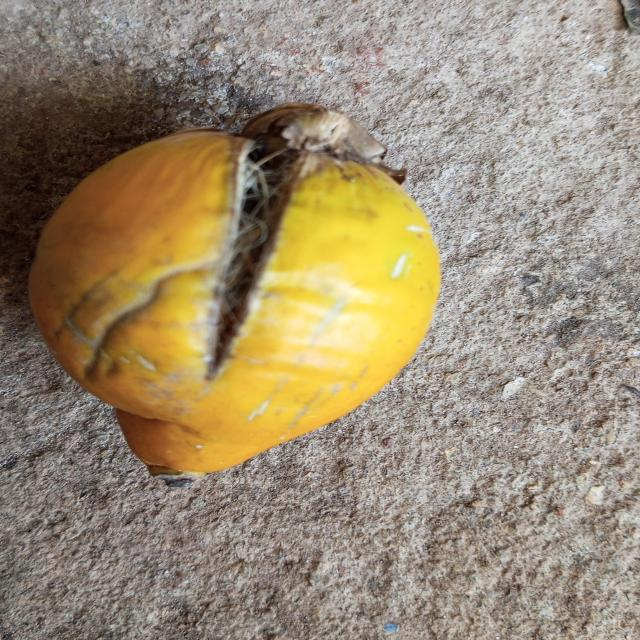damaged: (29, 103, 441, 485)
